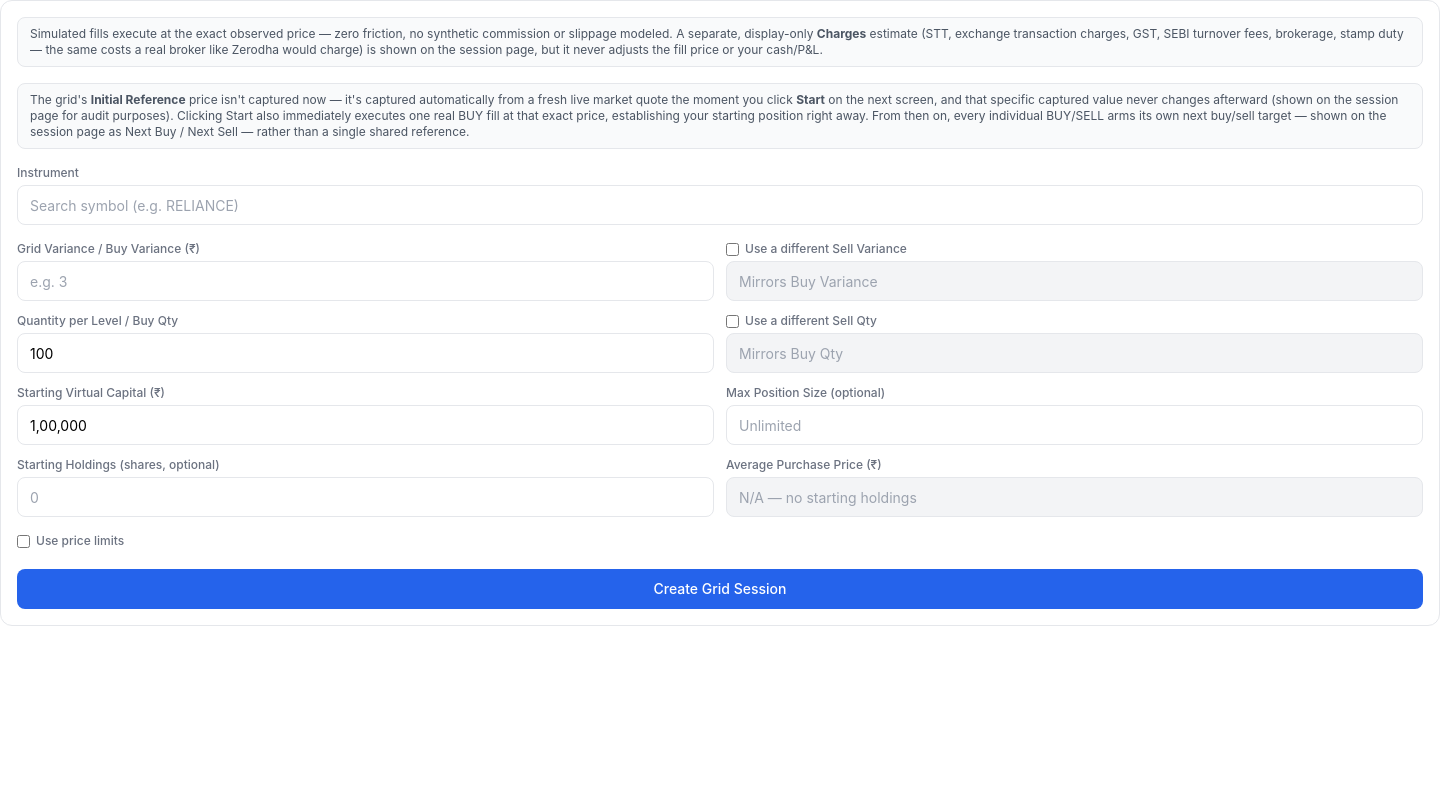
Scenario: GridSimulatorCreateForm › rejects a non-positive grid interval
The image size is (1440, 810).
Type "GICRE" into the field with placeholder "Search symbol (e.g. RELIANCE)".
click(720, 205); type("GICRE")  # box [17,185,1423,225]
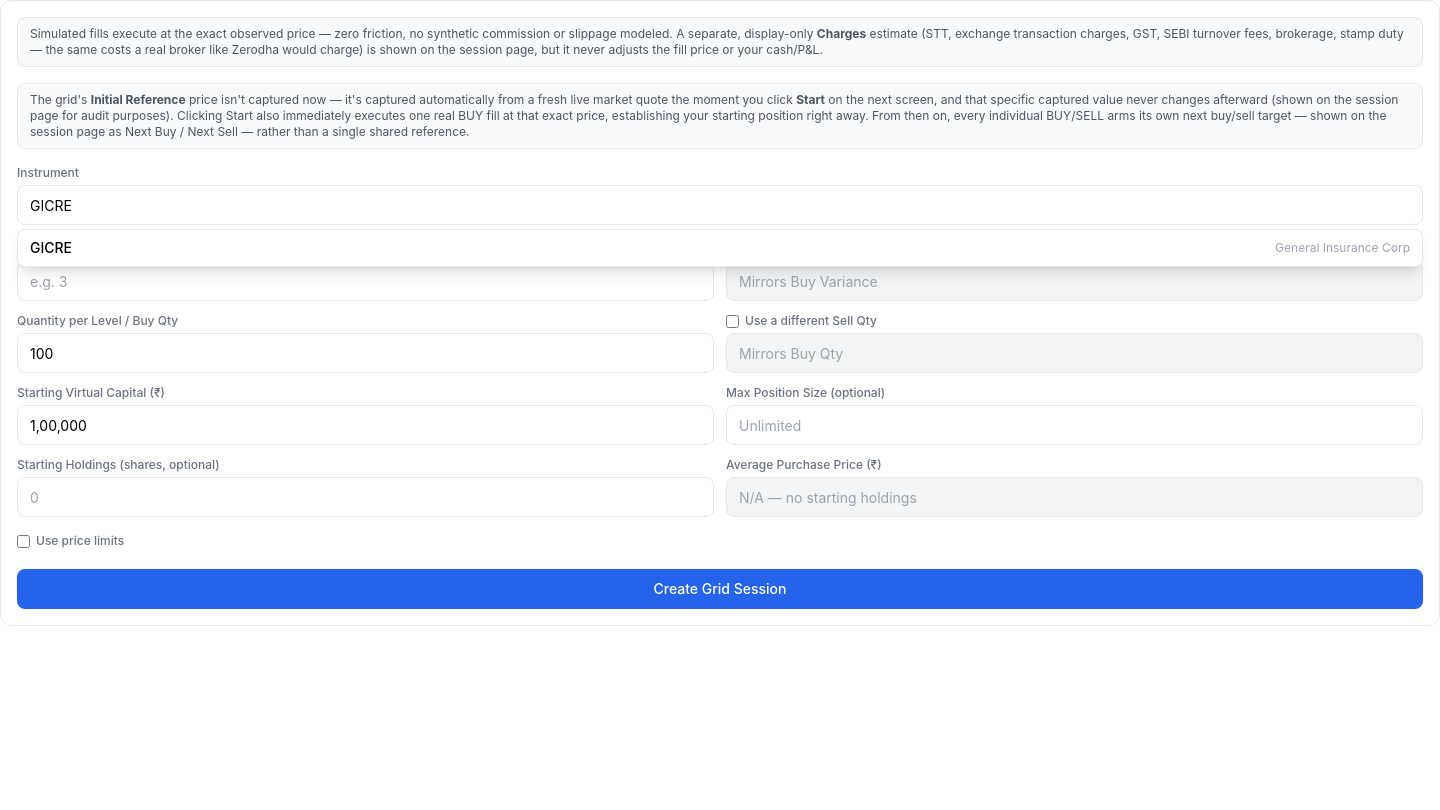
Now the text "GICRE" is shown
Click the text "GICRE".
click(51, 248)  # box [30,238,72,258]
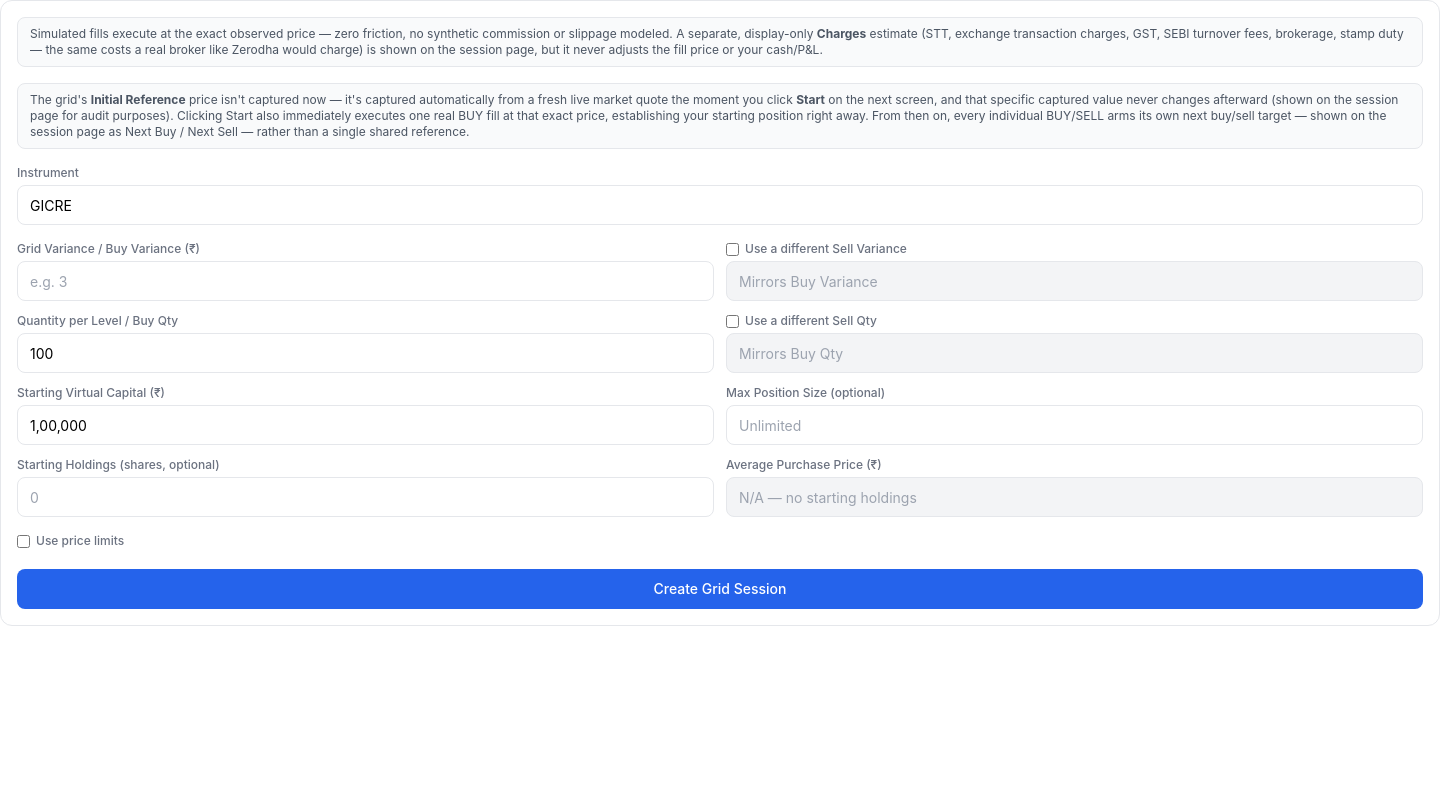
Type "-3" into the number field with placeholder "e.g. 3".
click(366, 281); type("-3")  # box [17,261,714,301]
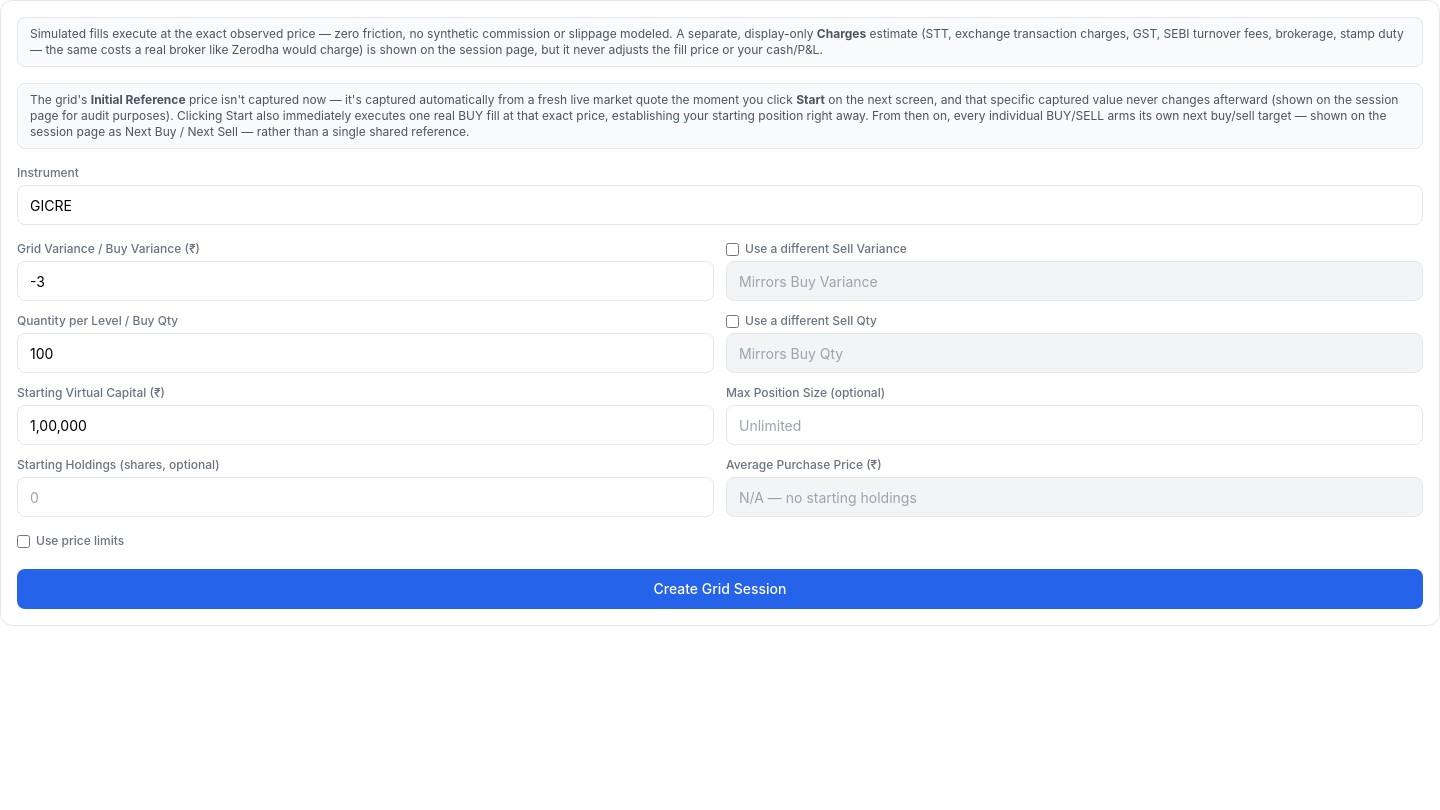
Click the button "Create Grid Session".
click(720, 589)  # box [17,569,1423,609]
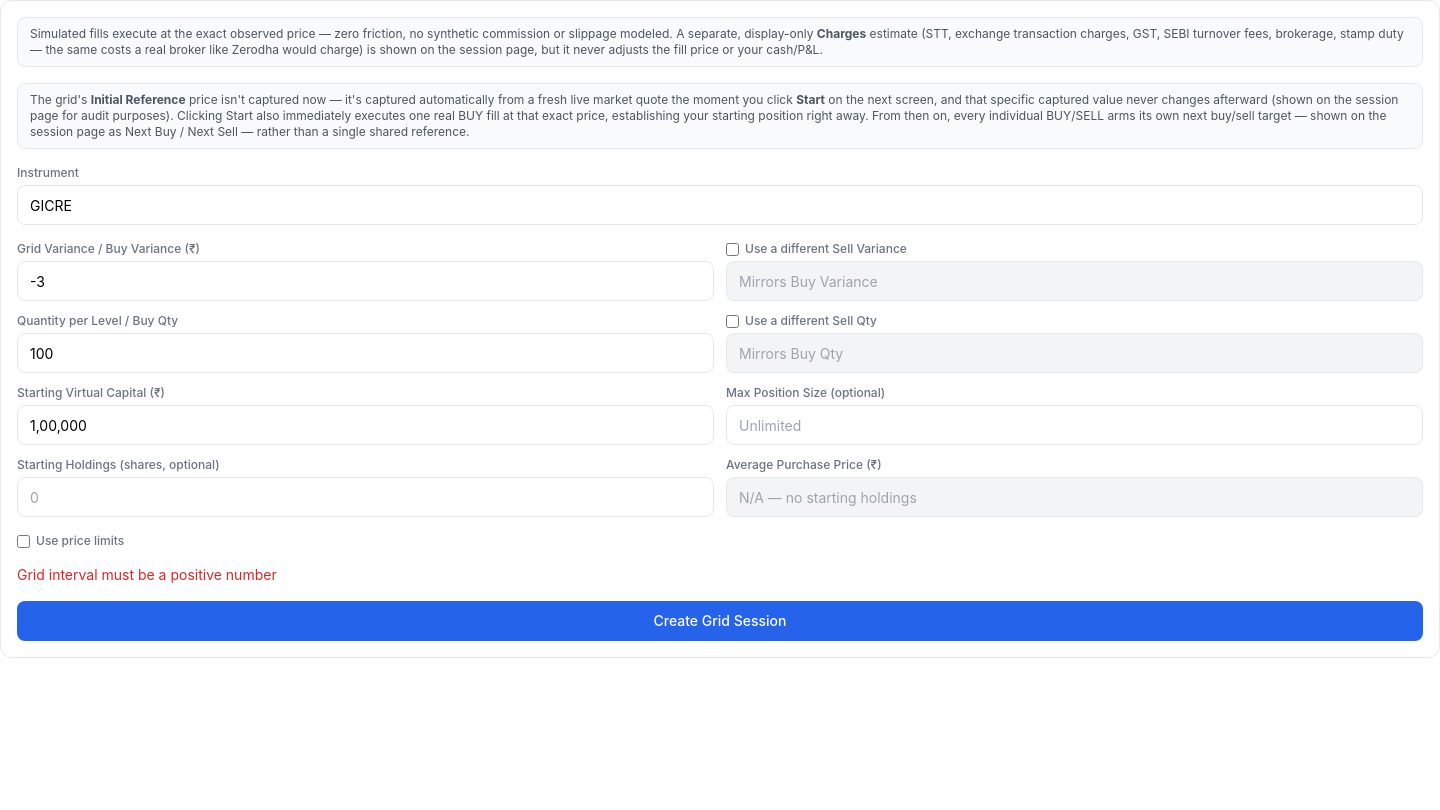
Now the text "Grid interval must be a positive number" is shown, box [17,566,277,583]
